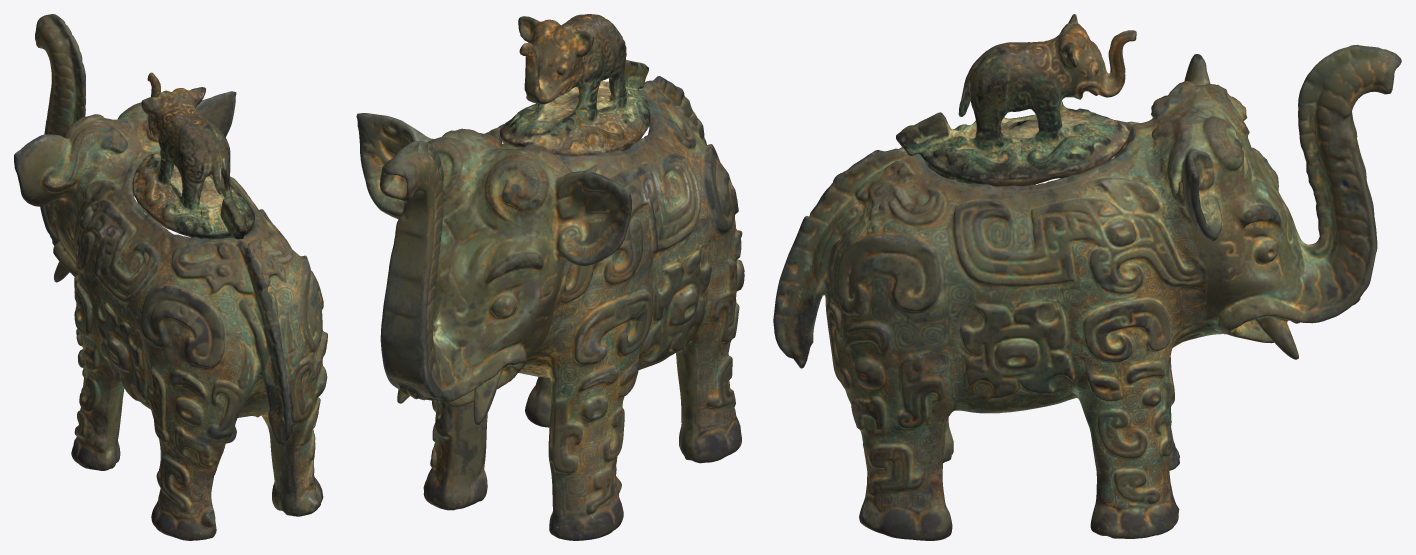
File: elephantStatue.gltf
3 renders of one model, left to right at view 1: azimuth 30°, elevation 25°; view 2: azimuth 150°, elevation 25°; view 3: azimuth 270°, elevation 25°, orthographic. The views are drawn at different scales.
Size of the model in its own units: 0.1067 by 0.1746 by 0.2114.
Materials: 1 (1 with a texture image).
